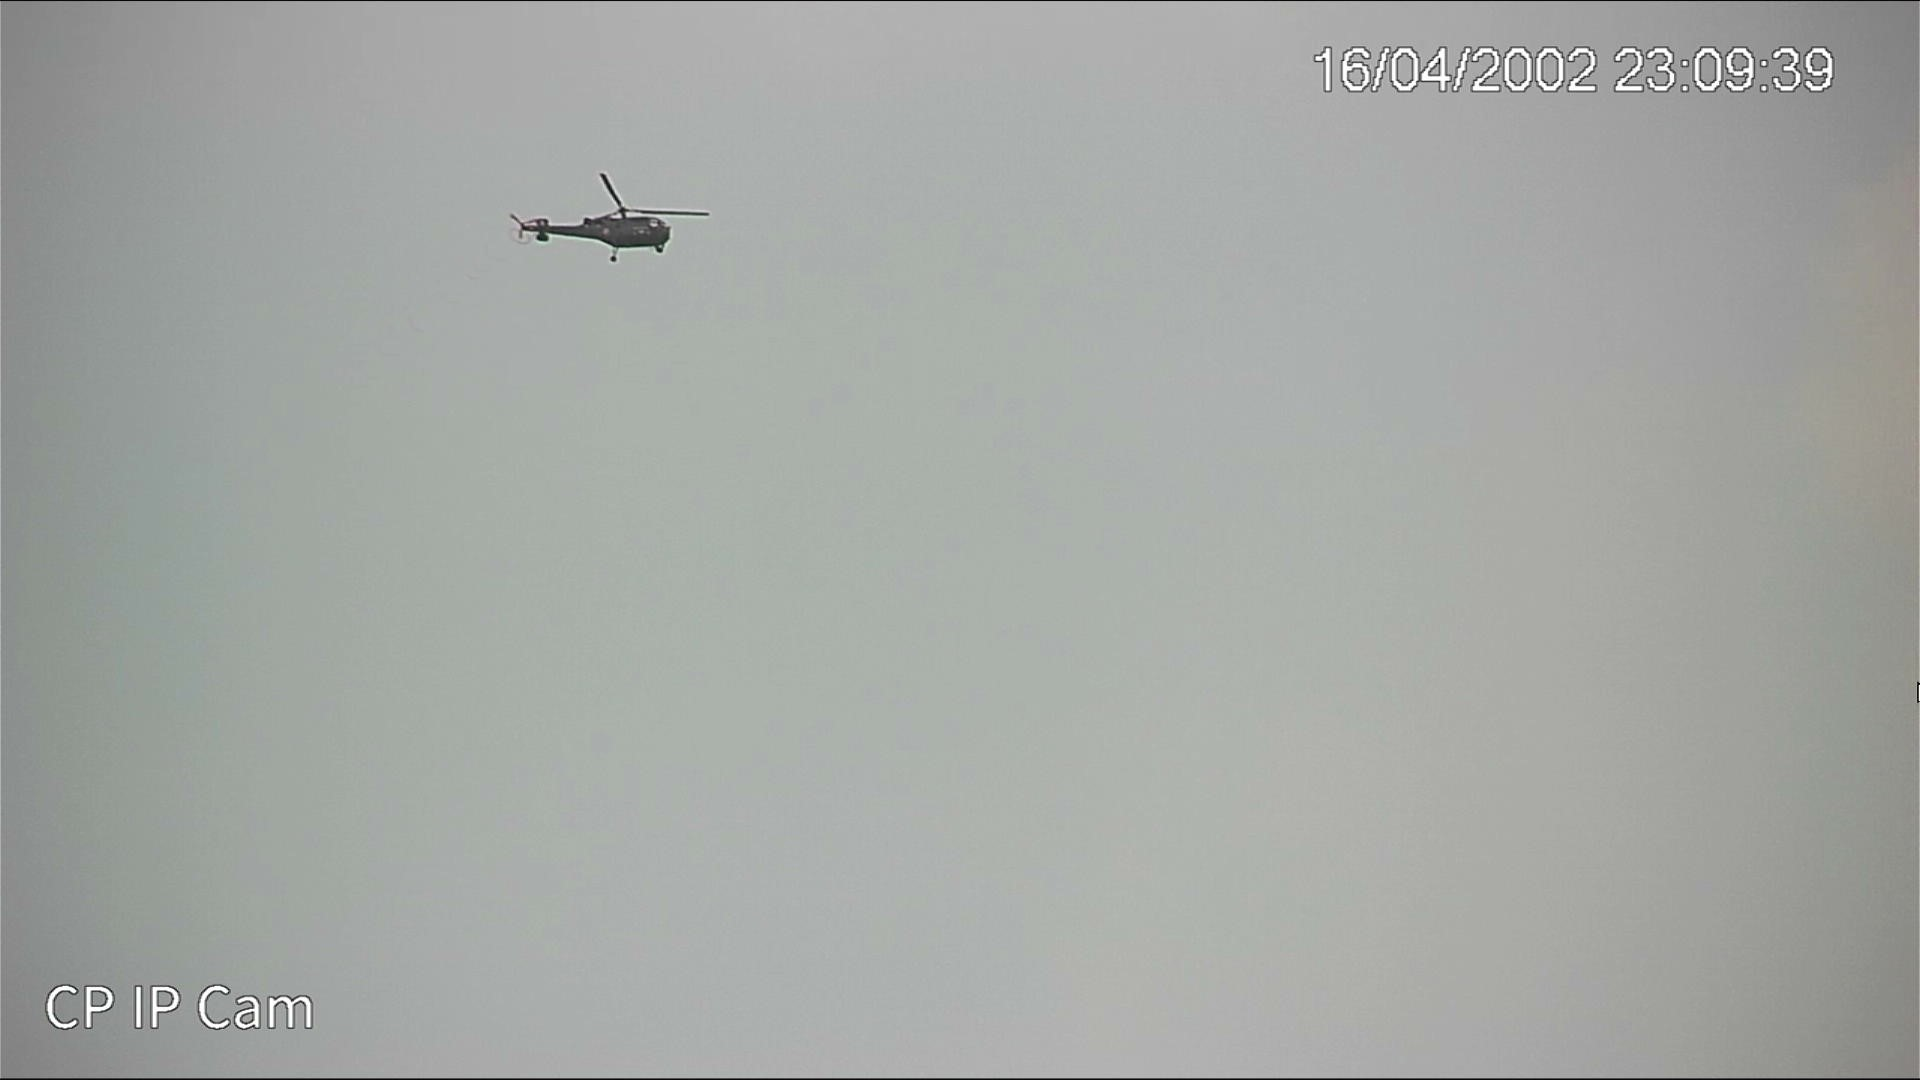SU_30: (502, 194, 683, 253)
